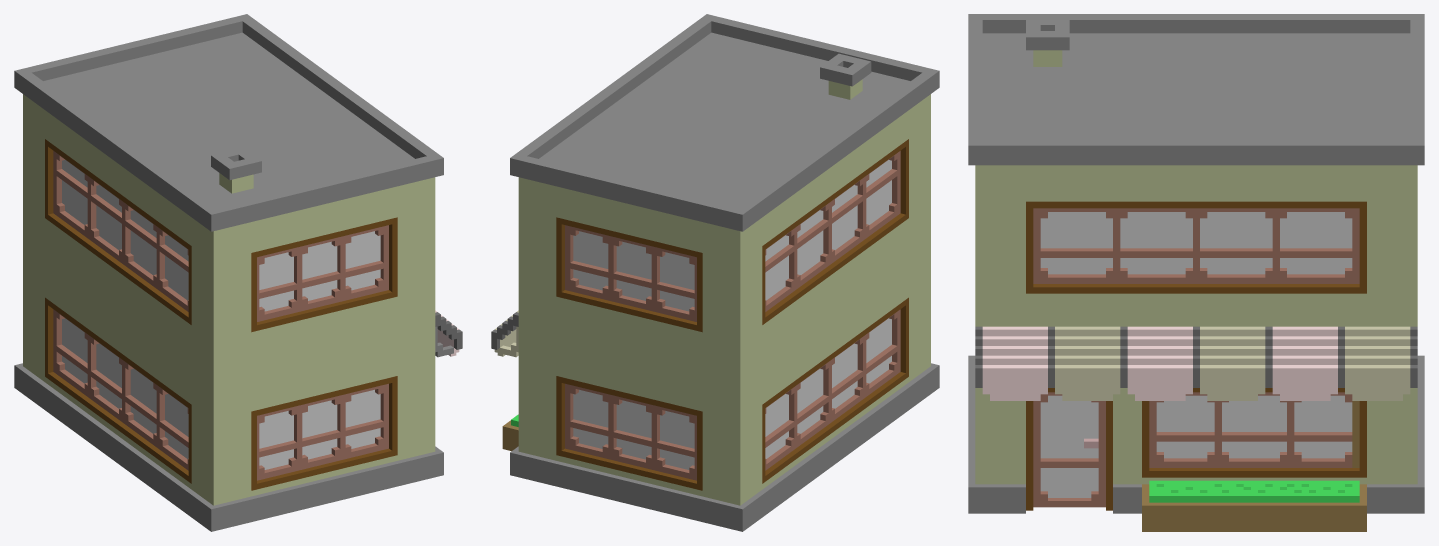
File: building1.obj
3 views of the same model, side by side, from view 1: azimuth 30°, elevation 25°; view 2: azimuth 150°, elevation 25°; view 3: azimuth 270°, elevation 25° (orthographic). The views are drawn at different scales.
Bounding box in the file's own units: 4.9 × 5.9 × 6.3.
1 material, 1 textured.
